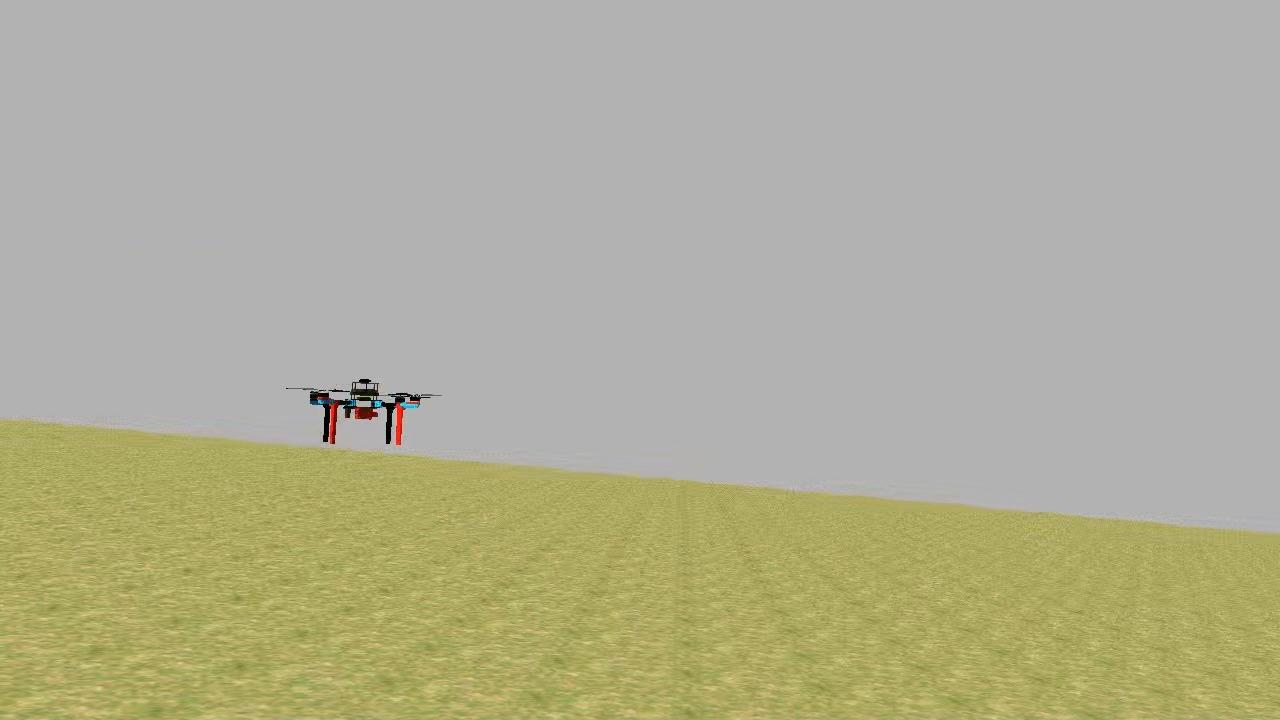UAV: (304, 374, 427, 454)
